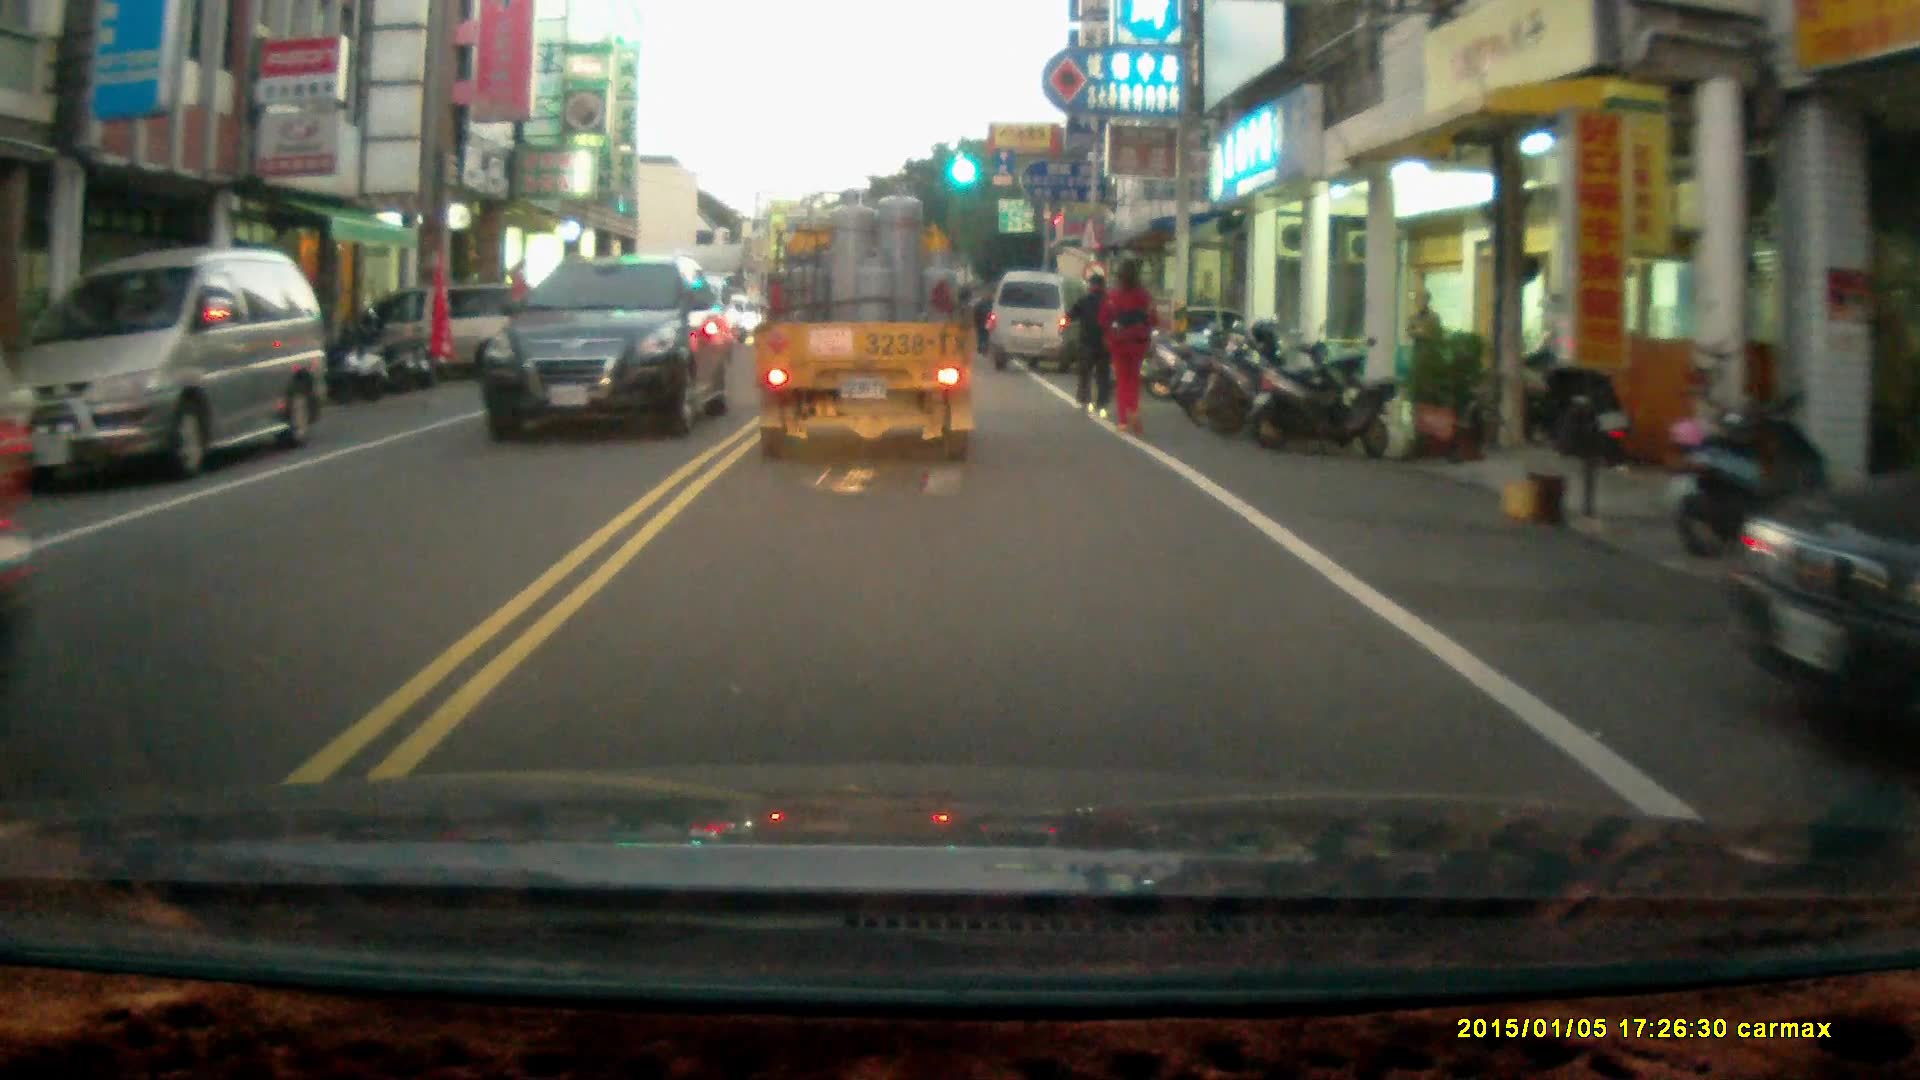pedestrian: (1094, 257, 1158, 426), (1068, 271, 1118, 420), (1401, 286, 1443, 398)
vehicle: (13, 247, 328, 482), (750, 173, 984, 463), (1733, 471, 1920, 738), (481, 251, 735, 440), (329, 288, 568, 378), (990, 273, 1097, 378)
